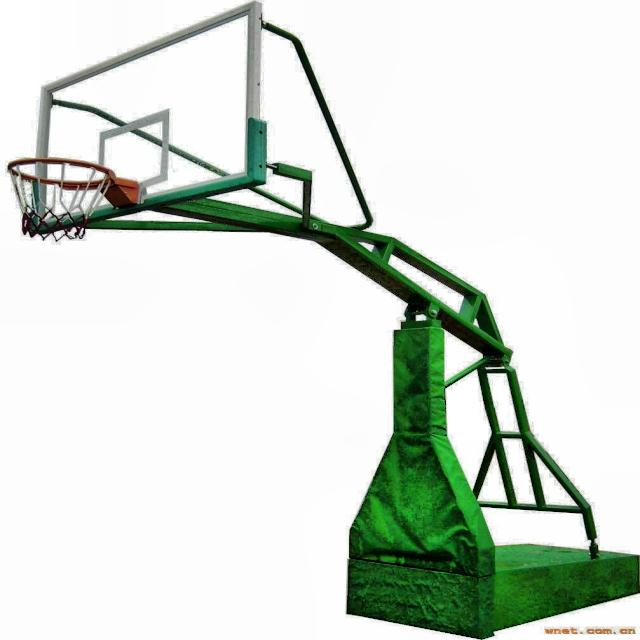rim: (7, 155, 111, 242)
